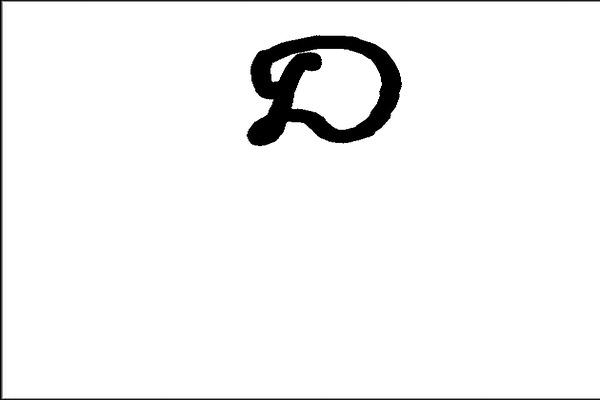D: (242, 31, 407, 156)
